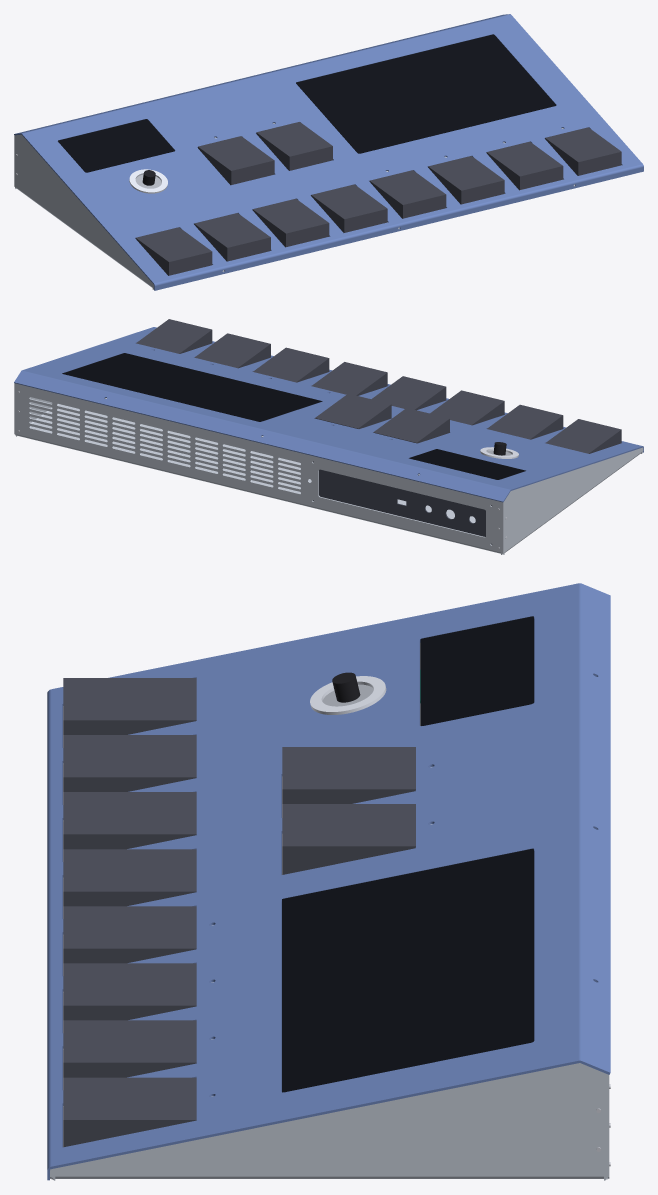
The model's file is segno_fromdxf.glb.
3 renders of one model, top to bottom at view 1: azimuth 30°, elevation 25°; view 2: azimuth 150°, elevation 25°; view 3: azimuth 270°, elevation 25°, orthographic. The views are drawn at different scales.
Visible parts, largest first — view 1: lid, lid_screen16, base, lid_screen7, pedal8, pedal9, pedal6, pedal2, pedal4, pedal0, pedal1, pedal7 (+3 smaller); view 2: base, lid, lid_screen16, rearpanel_pi, rearpanel_nopi, pedal9, pedal8, pedal1, pedal5, pedal7, pedal0, pedal6 (+4 smaller); view 3: lid, lid_screen16, base, lid_screen7, pedal9, pedal7, pedal6, pedal4, pedal5, pedal8, pedal2, pedal3 (+3 smaller).
Part boxes in pixels (<box>): lid: <box>14,14,643,290</box>; lid_screen16: <box>296,34,556,153</box>; base: <box>14,123,575,289</box>; lid_screen7: <box>58,119,174,172</box>; pedal8: <box>198,136,274,185</box>; pedal9: <box>256,122,332,170</box>; pedal6: <box>486,141,563,190</box>; pedal2: <box>252,198,329,247</box>; pedal4: <box>369,170,446,218</box>; pedal0: <box>135,227,212,275</box>; pedal1: <box>194,213,270,261</box>; pedal7: <box>545,127,621,175</box>; base: <box>14,383,643,554</box>; lid: <box>14,327,643,502</box>; lid_screen16: <box>62,353,322,421</box>; rearpanel_pi: <box>313,461,492,544</box>; rearpanel_nopi: <box>313,461,470,532</box>; pedal9: <box>314,393,391,428</box>; pedal8: <box>373,408,449,443</box>; pedal1: <box>487,404,563,439</box>; pedal5: <box>253,347,329,382</box>; pedal7: <box>136,319,212,353</box>; pedal0: <box>545,419,621,453</box>; pedal6: <box>194,333,270,368</box>; lid: <box>47,583,610,1180</box>; lid_screen16: <box>282,848,534,1092</box>; base: <box>50,643,609,1180</box>; lid_screen7: <box>420,616,534,725</box>; pedal9: <box>282,804,415,874</box>; pedal7: <box>63,1077,196,1147</box>; pedal6: <box>63,1020,196,1077</box>; pedal4: <box>63,906,196,963</box>; pedal5: <box>63,963,196,1020</box>; pedal8: <box>282,747,415,803</box>; pedal2: <box>63,792,196,849</box>; pedal3: <box>63,849,196,906</box>.
Bounding box in the file's own units: 848 × 99.24 × 422.
